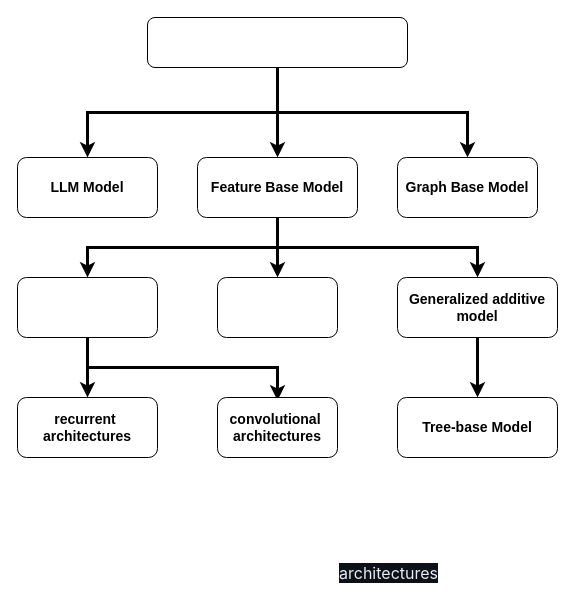
This 575x615 diagram has some shape labels left out. Each missing label, with the box of its shape:
Linear models: (216, 276, 338, 338)
Neural network models: (16, 276, 158, 338)
Predicting stock market prices: (146, 16, 408, 68)
